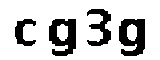3: (85, 6, 115, 50)
c: (13, 17, 38, 49)
g: (46, 16, 79, 60), (117, 15, 148, 60)
